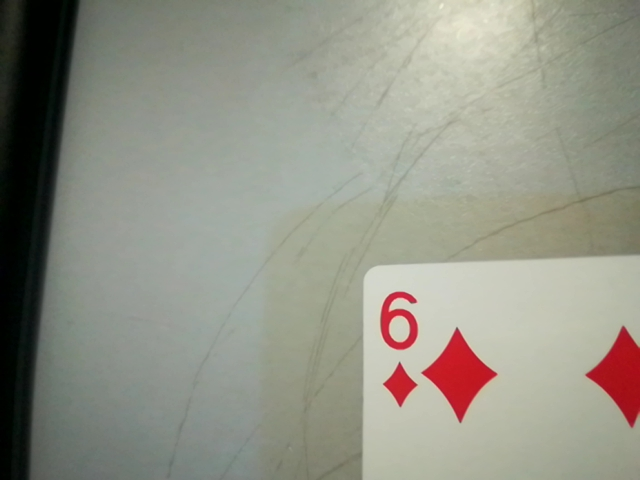fk 6: (364, 283, 429, 414)
